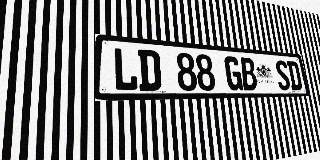8: (175, 52, 198, 91), (195, 54, 216, 91)
B: (239, 57, 258, 90)
D: (138, 49, 162, 91), (286, 61, 303, 90)
G: (224, 56, 243, 90)
L: (113, 47, 138, 91)
S: (274, 60, 291, 90)
